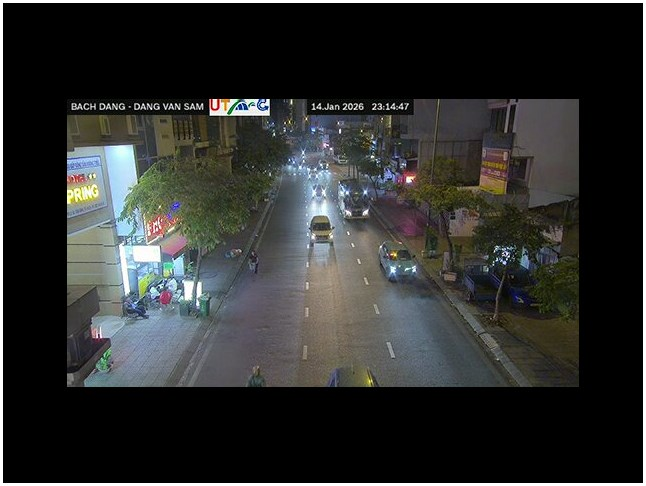car: (377, 240, 418, 283), (332, 365, 379, 391), (308, 214, 334, 242), (312, 185, 325, 197), (319, 159, 328, 171)
motorbike: (248, 249, 260, 274)
truck: (335, 178, 368, 217)
